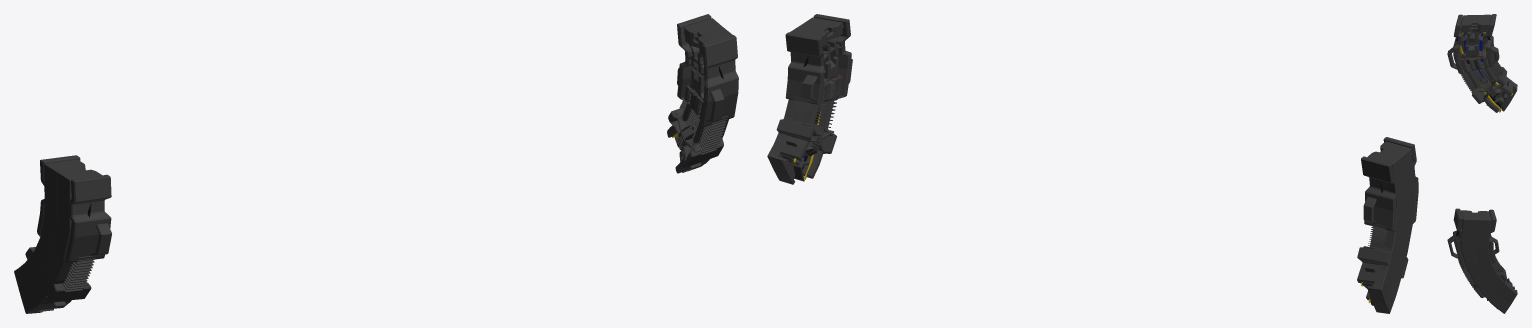
Rendered from sheet_006.obj.
3 views of the same model, side by side, from view 1: azimuth 30°, elevation 25°; view 2: azimuth 150°, elevation 25°; view 3: azimuth 270°, elevation 25° (orthographic). The views are drawn at different scales.
Parts seen in each view (by area): view 1: sheet.006; view 2: sheet.006; view 3: sheet.006.
Boxes of the visible parts, x1,y1,x2,y2 form: sheet.006: [14, 14, 738, 313]; sheet.006: [767, 14, 1418, 313]; sheet.006: [1447, 14, 1517, 313].
Size of the model in its own units: 0.1962 by 0.0486 by 0.0293.
